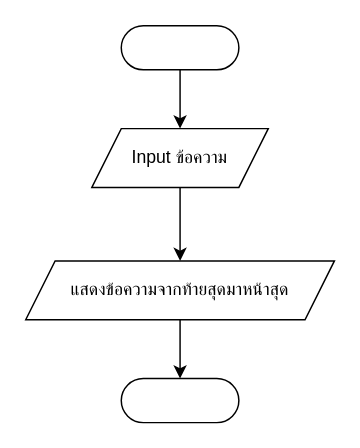
This 360x448 diagram has some shape labels left out. The shapes that lost their labels are listed below. From the top down, each one's box as (x1, y1, x2, y2) in pixels, then its label:
(120, 24, 239, 70): START
(120, 377, 239, 423): END
